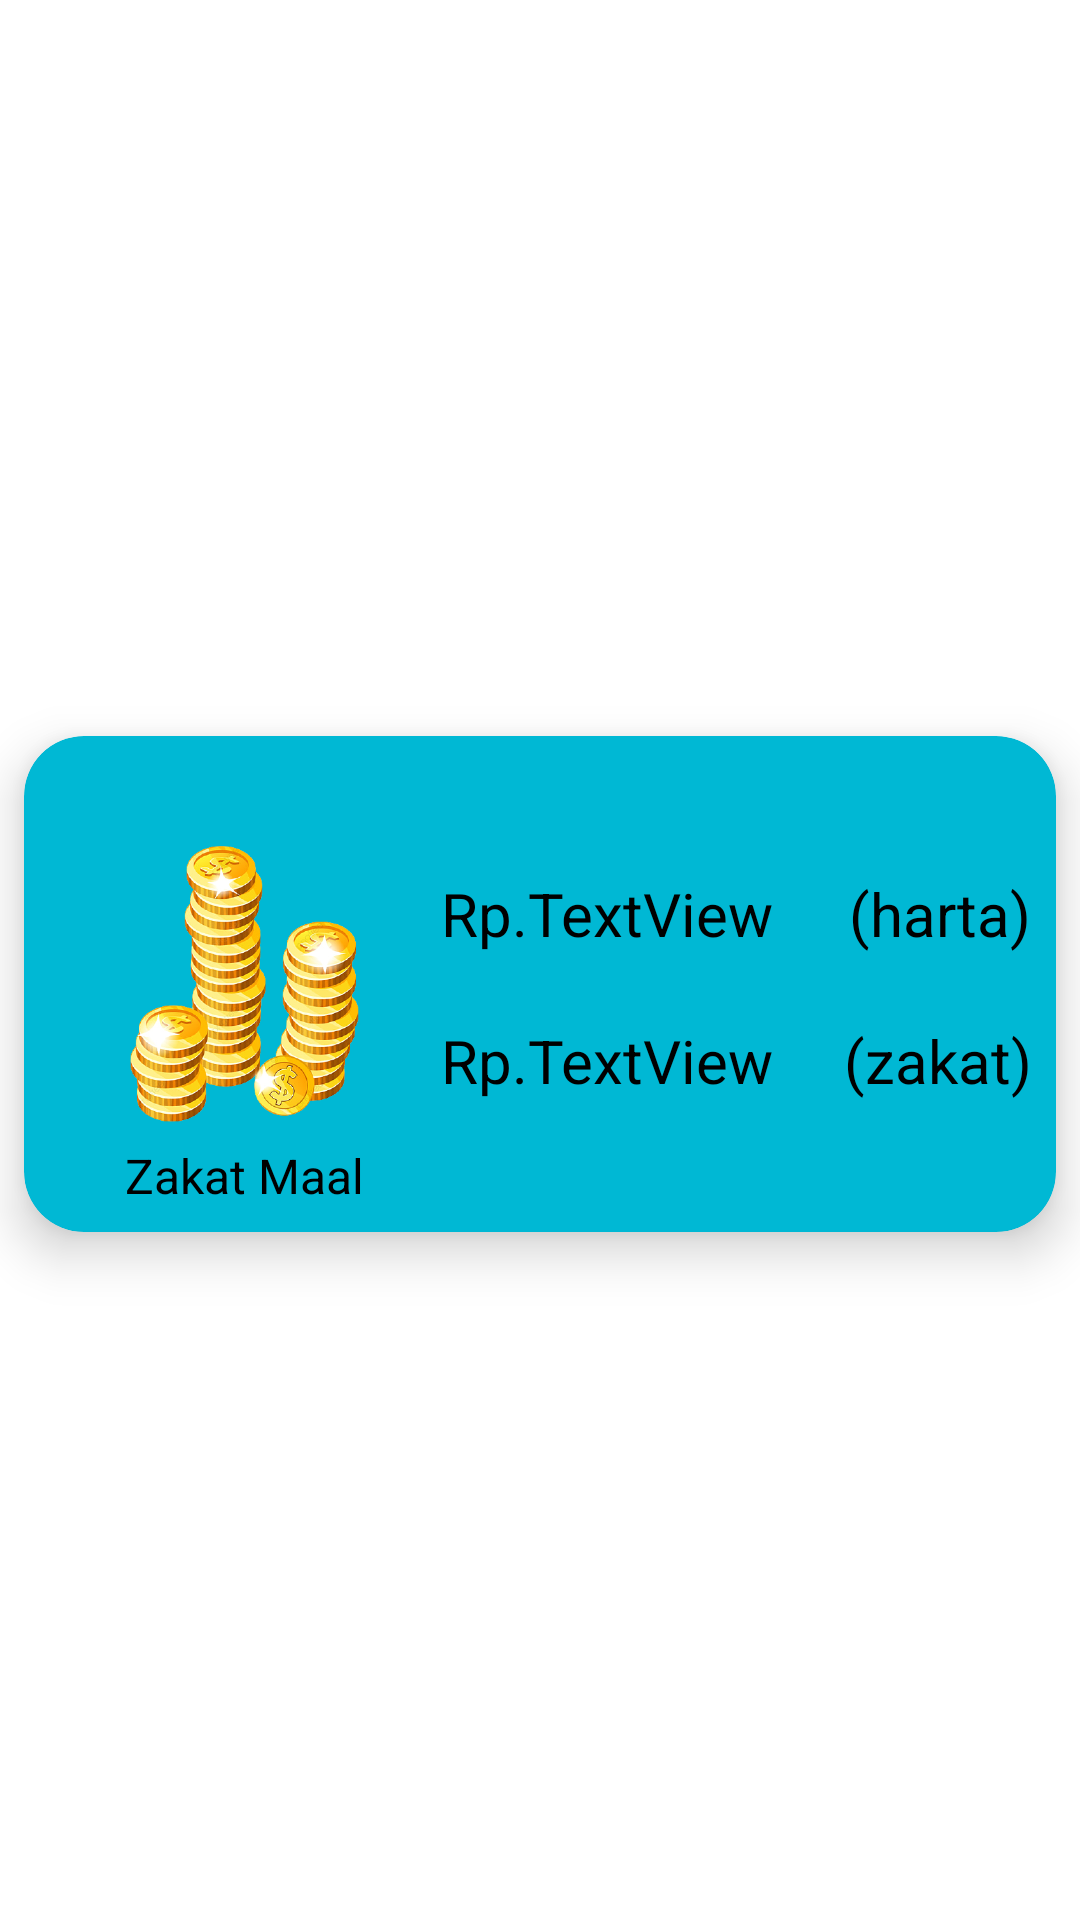

Named icons in this screenshot (1080px×1920px) and their bounding boxes, (x1, y1, x2, y2):
money: (130, 846, 359, 1122)
